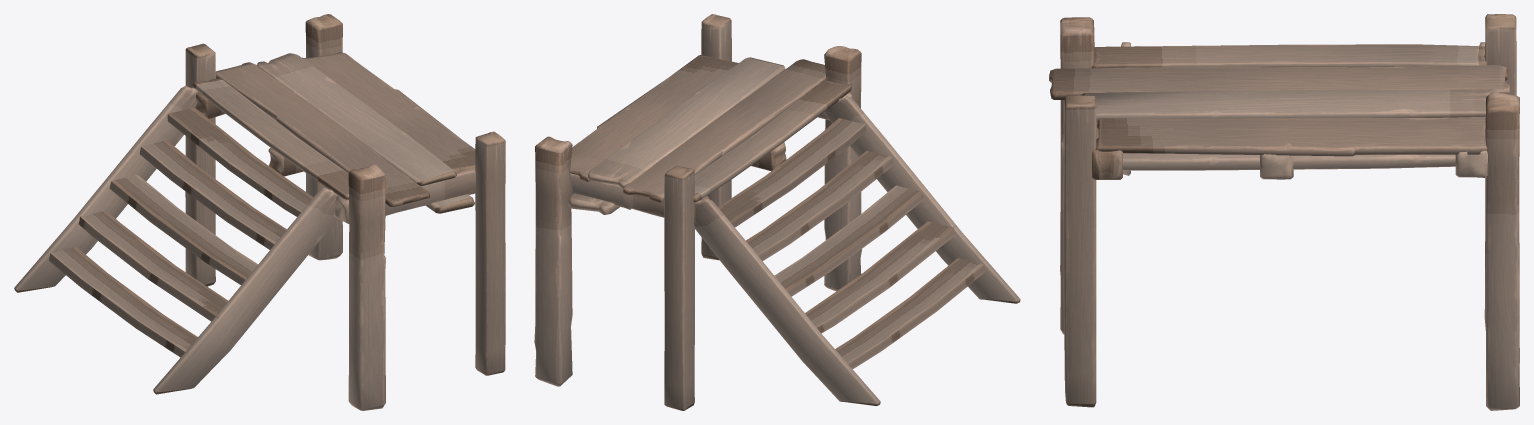
The model's file is SM_Dock_Stairs.fbx.
3 renders of one model, left to right at view 1: azimuth 30°, elevation 25°; view 2: azimuth 150°, elevation 25°; view 3: azimuth 270°, elevation 25°, orthographic. The views are drawn at different scales.
Parts seen in each view (by area): view 1: SM_Dock_Stairs_LOD0; view 2: SM_Dock_Stairs_LOD0; view 3: SM_Dock_Stairs_LOD0.
Part boxes in pixels (x1,y1,x2,y2): SM_Dock_Stairs_LOD0: (14, 14, 505, 410); SM_Dock_Stairs_LOD0: (534, 14, 1020, 410); SM_Dock_Stairs_LOD0: (1049, 14, 1519, 410).
Bounding box in the file's own units: 473 × 450 × 324.
